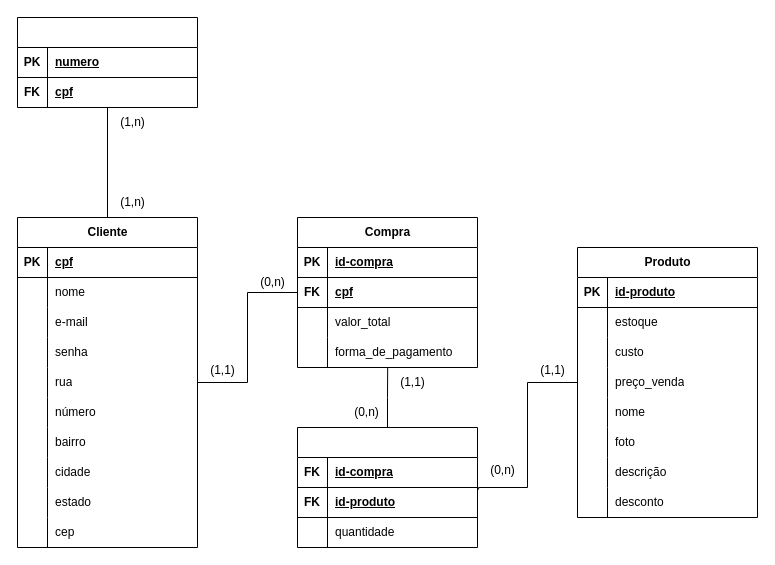
Some shapes in this 775 by 565 pixel diagram are drawn without their labels. Each missing label, with the box of its shape:
Compra - Produto: (296, 426, 478, 548)
Telefone: (16, 16, 198, 108)
